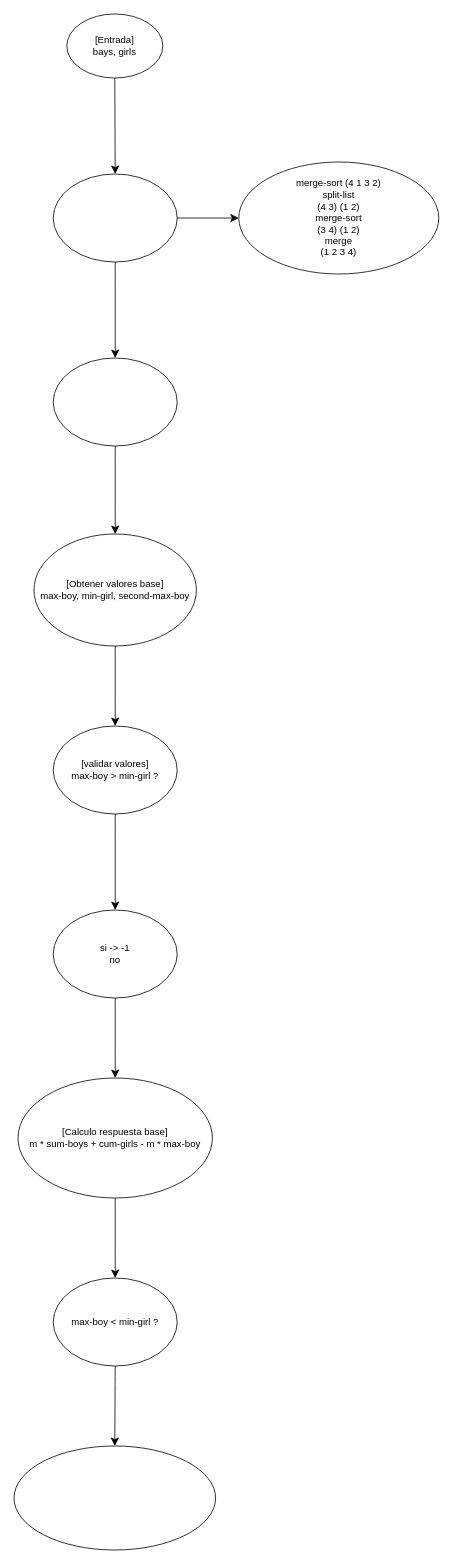
Image size: 453x1564. Some labels were removed from this diagram. Here are the shapes that lost their labels. From the top down, the centre of each, then its label:
At point 114,217: "[merge-sort] sorted-boys, sorted-girls".
At point 114,401: "[sum-list] sum-boys, sum-girls".
At point 114,1497: "[Resultado] si -> base + max-boy - second-max-boy no -> base".
